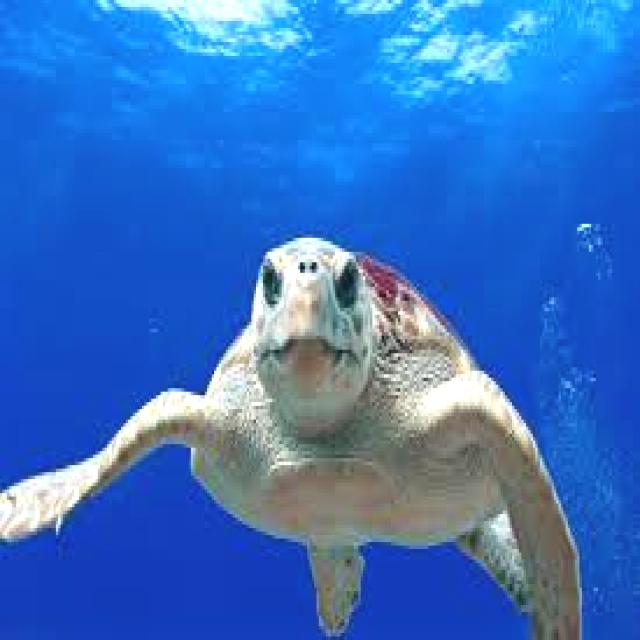Sea turtle: (2, 231, 640, 640)
